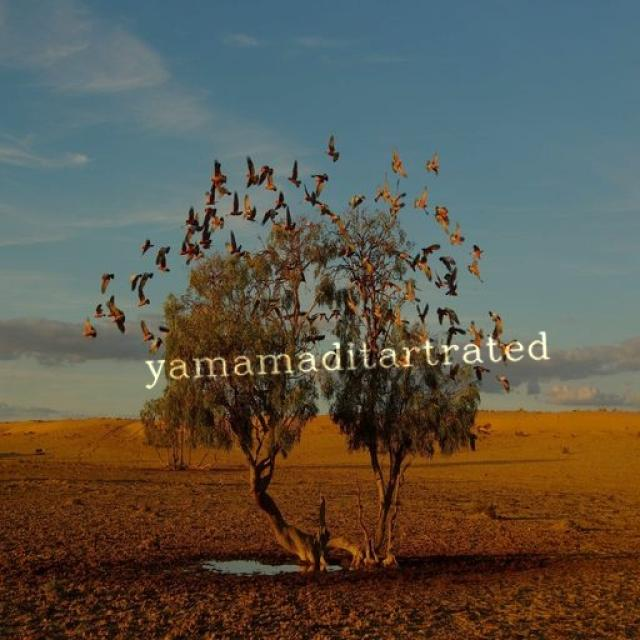watermark: (134, 330, 550, 385)
